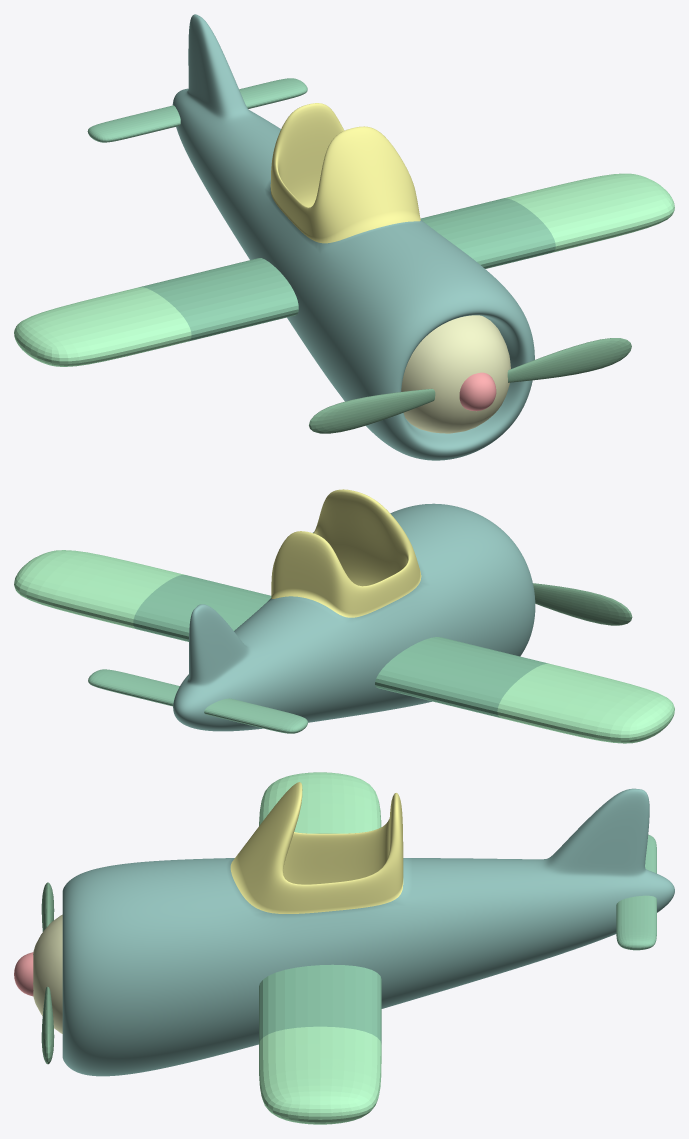
File: asset.glb
The picture shows the model from 3 angles, top to bottom: view 1: azimuth 30°, elevation 25°; view 2: azimuth 150°, elevation 25°; view 3: azimuth 270°, elevation 25°; orthographic projection. The views are drawn at different scales.
Parts seen in each view (by area): view 1: 立方体, 立方体.001, 立方体.003, 立方体.005, 立方体.002, 立方体.004; view 2: 立方体, 立方体.001, 立方体.002, 立方体.005; view 3: 立方体, 立方体.001, 立方体.003, 立方体.002, 立方体.005, 立方体.004.
Boxes of the visible parts, left/top/right/bottom form: 立方体: left=172, top=14, right=534, bottom=460; 立方体.001: left=14, top=173, right=674, bottom=366; 立方体.003: left=401, top=315, right=510, bottom=433; 立方体.005: left=309, top=338, right=631, bottom=433; 立方体.002: left=87, top=78, right=307, bottom=142; 立方体.004: left=459, top=372, right=496, bottom=411; 立方体: left=173, top=489, right=535, bottom=731; 立方体.001: left=14, top=550, right=674, bottom=743; 立方体.002: left=88, top=669, right=307, bottom=733; 立方体.005: left=313, top=532, right=632, bottom=625; 立方体: left=62, top=782, right=674, bottom=1076; 立方体.001: left=259, top=772, right=381, bottom=1124; 立方体.003: left=33, top=914, right=62, bottom=1033; 立方体.002: left=616, top=834, right=656, bottom=950; 立方体.005: left=41, top=882, right=54, bottom=1064; 立方体.004: left=14, top=952, right=33, bottom=996.
Size of the model in its own units: 6.13 by 2.36 by 5.09.
